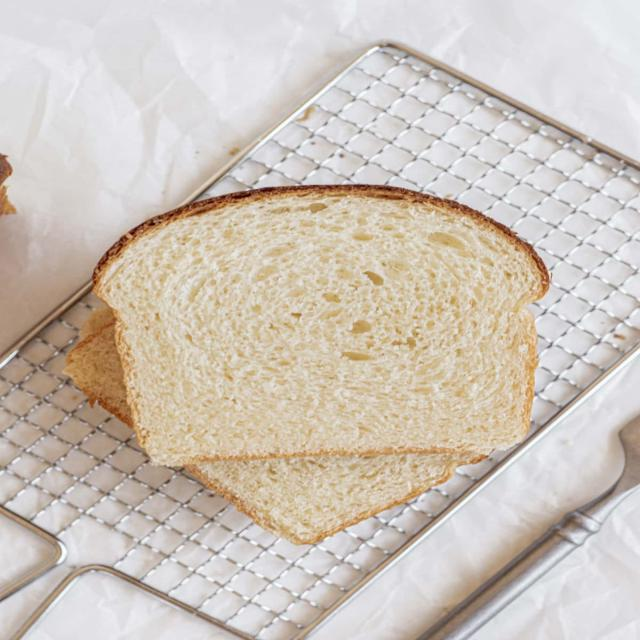Bread: (94, 185, 549, 466)
